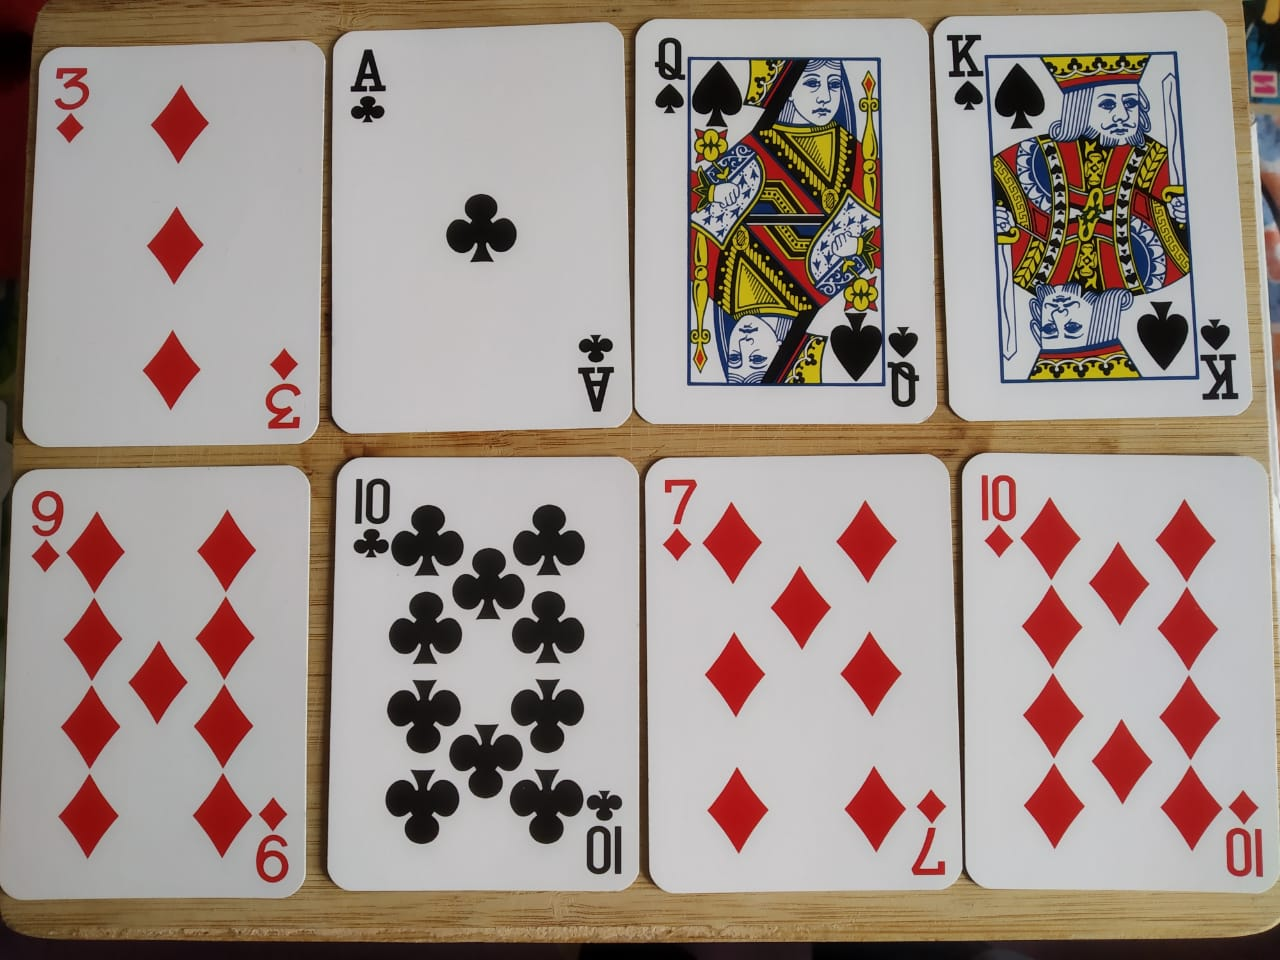ace: (329, 12, 636, 440)
king: (922, 1, 1267, 431)
nine: (1, 458, 316, 927)
queen: (621, 3, 952, 446)
seven: (641, 440, 969, 917)
ten: (963, 431, 1280, 924), (323, 447, 648, 911)
three: (35, 17, 330, 459)
